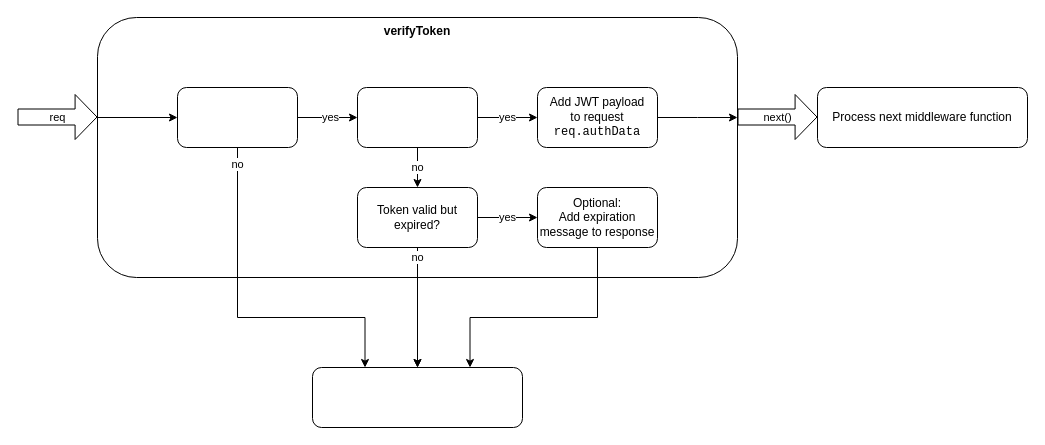
This 1045x445 diagram has some shape labels left out. The shapes that lost their labels are listed below. From the top down, each one's centre as x and y in pixels, then its label:
At pixel 237 117: "Authorization header present?".
At pixel 417 117: "Bearer JWT token valid?".
At pixel 417 397: "Reject request with HTTP 401 Unauthorized".
